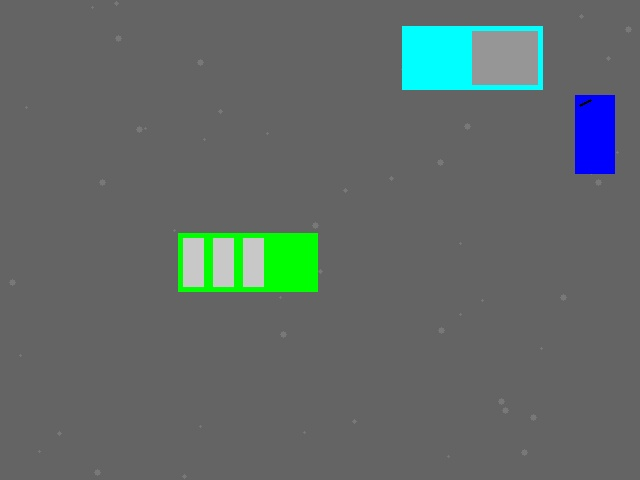bus: (178, 233, 317, 291)
motorcycle: (575, 95, 614, 173)
truck: (402, 26, 542, 89)
